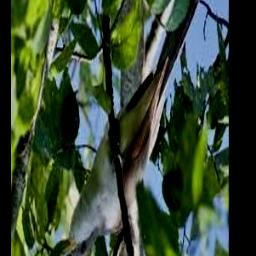Cuckoo: (60, 0, 203, 256)
